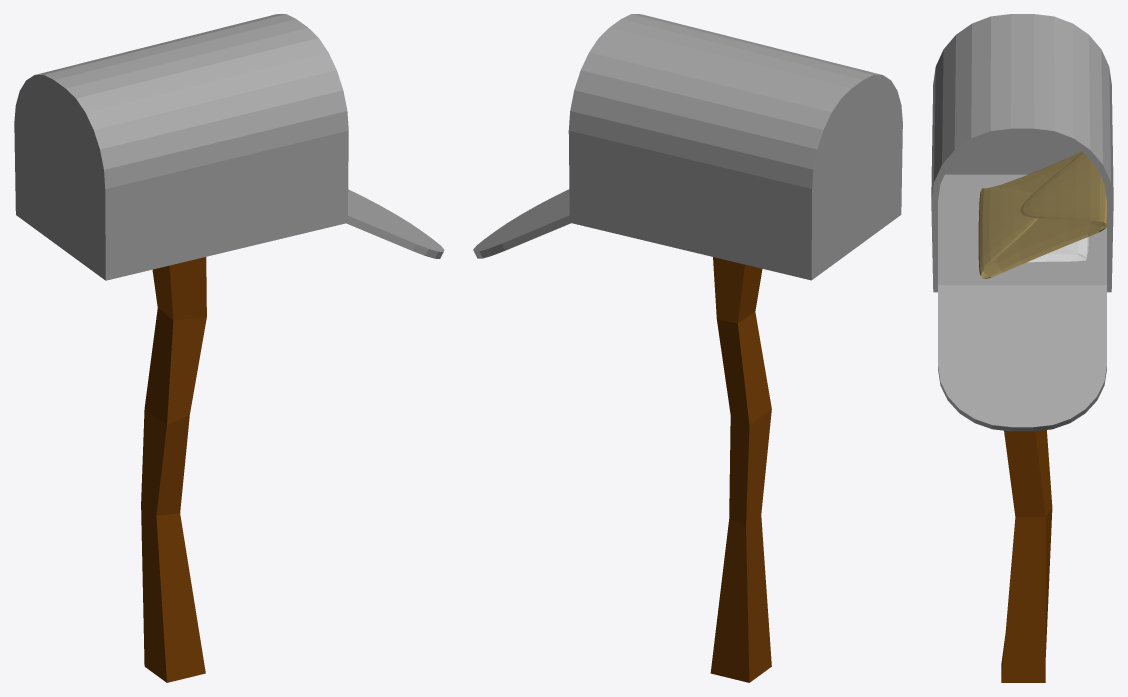
Rendered from mailbox.fbx.
The picture shows the model from 3 angles, left to right: view 1: azimuth 30°, elevation 25°; view 2: azimuth 150°, elevation 25°; view 3: azimuth 270°, elevation 25°; orthographic projection.
Visible parts, largest first — view 1: Cube.005, Cube, Cube.006; view 2: Cube.005, Cube, Cube.006; view 3: Cube.005, Cube.006, Plane.001, Cube, Plane.002.
Part boxes in pixels (x1,y1,x2,y2): Cube.005: (14, 14, 348, 280); Cube: (141, 257, 206, 682); Cube.006: (346, 189, 444, 258); Cube.005: (568, 14, 902, 280); Cube: (710, 257, 771, 682); Cube.006: (473, 189, 570, 258); Cube.005: (931, 14, 1113, 292); Cube.006: (938, 285, 1106, 431); Plane.001: (978, 151, 1106, 278); Cube: (1001, 430, 1052, 682); Plane.002: (1027, 237, 1088, 262).
Bounding box in the file's own units: 4.15 × 6.64 × 1.81.
